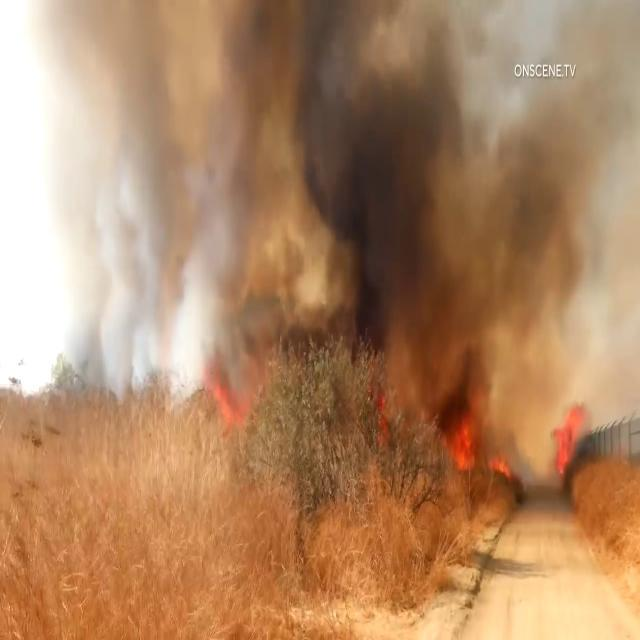Fire: (444, 400, 481, 476)
Smoke: (32, 1, 640, 427)
